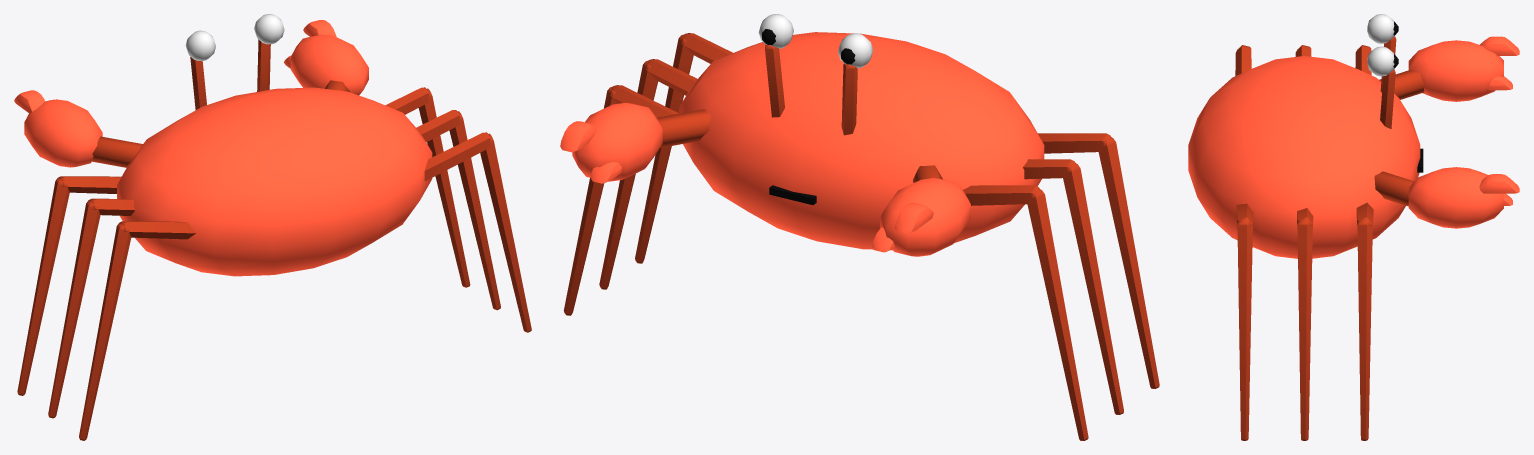
The model's file is crab.glb.
3 views of the same model, side by side, from view 1: azimuth 30°, elevation 25°; view 2: azimuth 150°, elevation 25°; view 3: azimuth 270°, elevation 25° (orthographic). The views are drawn at different scales.
Visible parts, largest first — view 1: Body, LegLMesh, LegRMesh, ArmLMesh, ArmRMesh; view 2: Body, LegLMesh, LegRMesh, ArmRMesh, ArmLMesh; view 3: Body, LegRMesh, ArmRMesh, ArmLMesh, LegLMesh.
Part boxes in pixels (left/top/right/bottom): Body: left=117, top=14, right=432, bottom=276; LegLMesh: left=17, top=176, right=196, bottom=440; LegRMesh: left=385, top=87, right=531, bottom=332; ArmLMesh: left=14, top=90, right=142, bottom=167; ArmRMesh: left=284, top=20, right=368, bottom=95; Body: left=679, top=14, right=1044, bottom=250; LegLMesh: left=963, top=133, right=1159, bottom=440; LegRMesh: left=563, top=33, right=732, bottom=315; ArmRMesh: left=560, top=103, right=711, bottom=183; ArmLMesh: left=872, top=165, right=970, bottom=256; Body: left=1188, top=14, right=1423, bottom=258; LegRMesh: left=1236, top=202, right=1373, bottom=440; ArmRMesh: left=1374, top=167, right=1519, bottom=228; ArmLMesh: left=1379, top=36, right=1519, bottom=101; LegLMesh: left=1235, top=45, right=1371, bottom=75.
Bounding box in the file's own units: 2.38 × 1.56 × 1.55.
